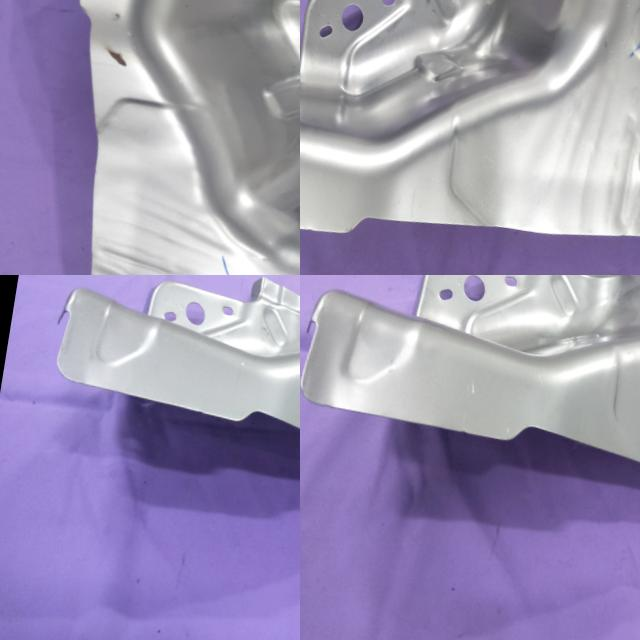Healthy: (300, 0, 640, 275), (9, 0, 300, 275), (38, 275, 300, 531)
